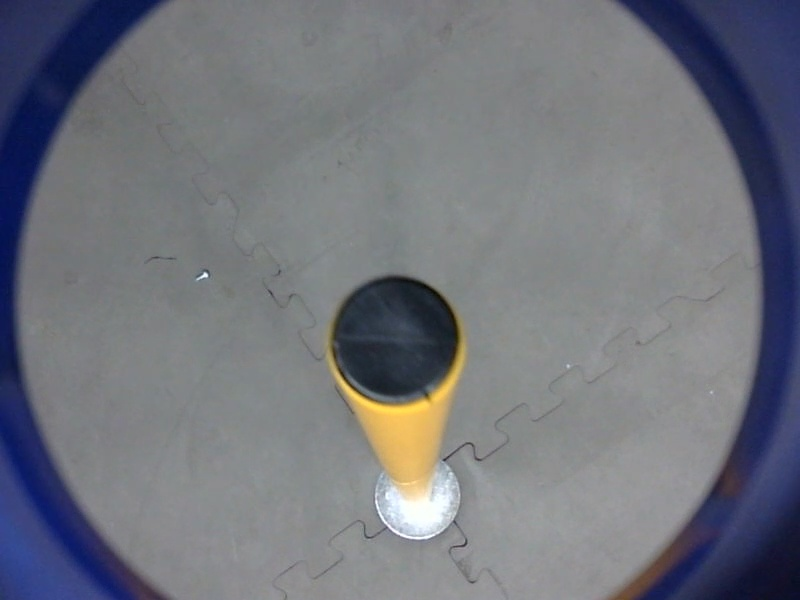tip: (318, 268, 475, 421)
